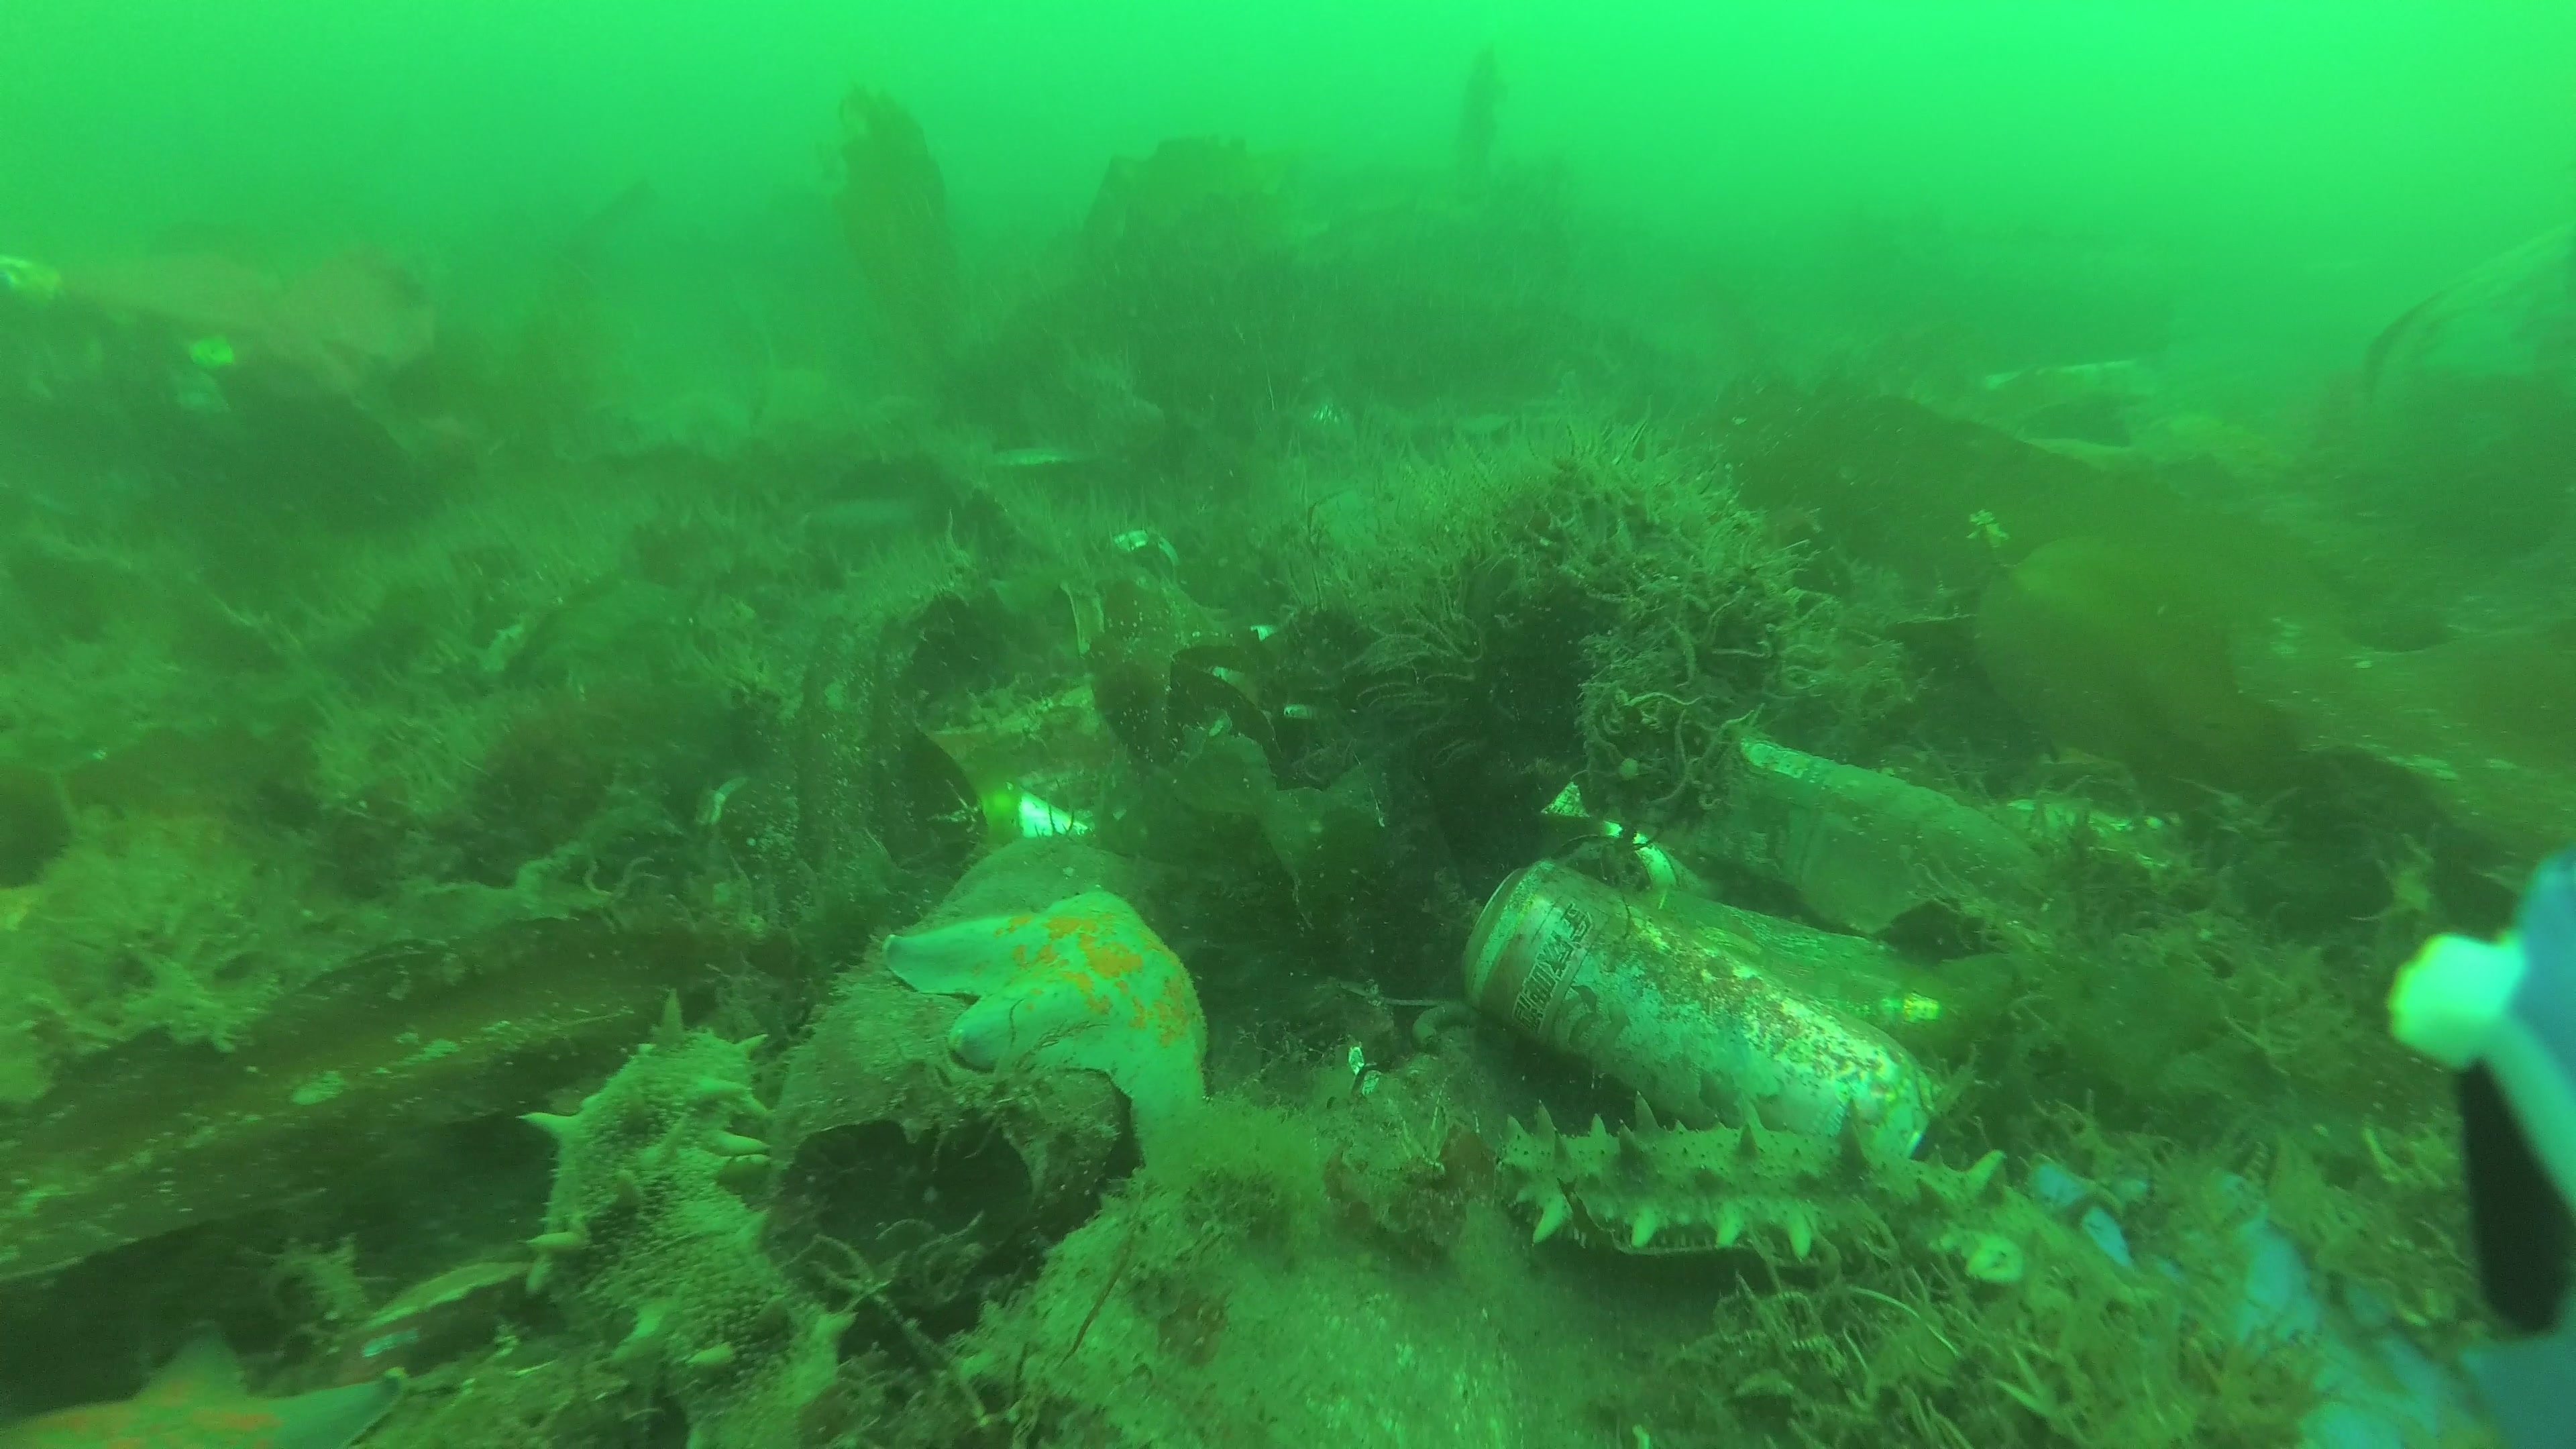holothurian: (527, 994, 858, 1449), (1497, 1093, 2141, 1315)
scallop: (310, 1256, 541, 1387)
starfish: (883, 888, 1215, 1184), (7, 1330, 405, 1449)
